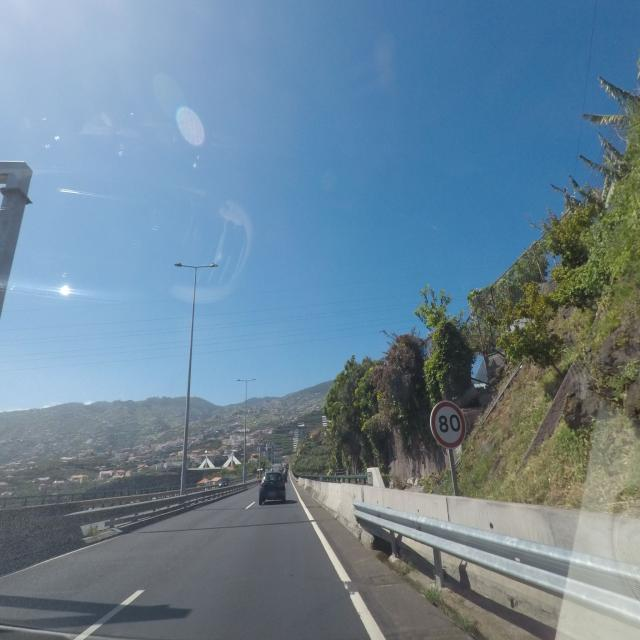car: (258, 471, 286, 505)
